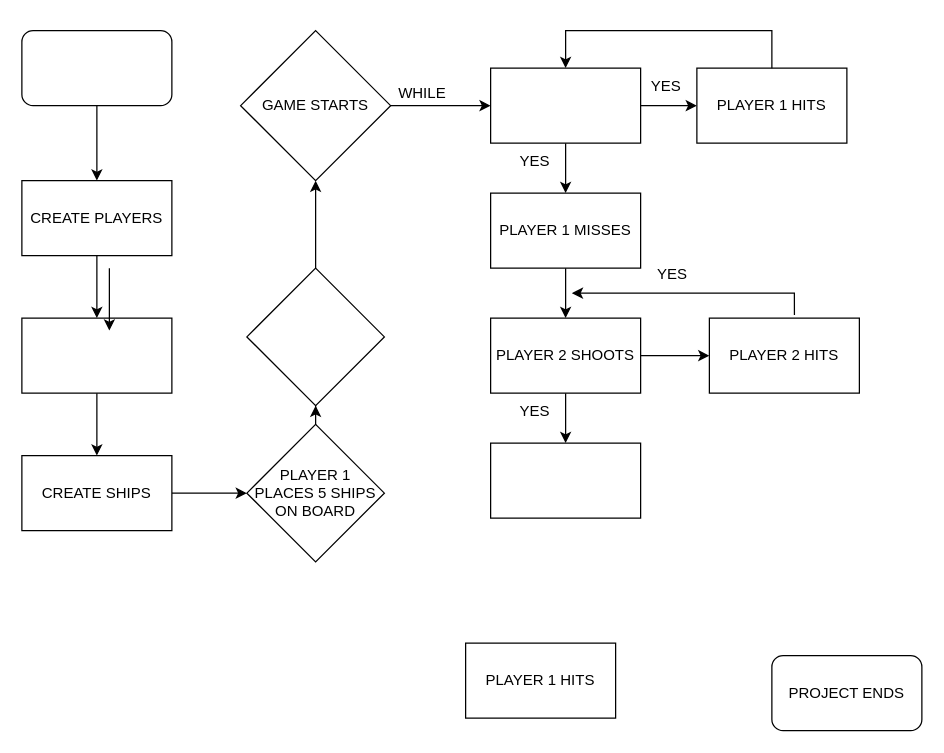
Some shapes in this 944 by 753 pixel diagram are drawn without their labels. Each missing label, with the box of its shape:
CREATE BOARD: (21, 317, 172, 393)
PLAYER 1 SHOOTS: (489, 67, 641, 143)
PLAYER 2 MISSES: (489, 442, 641, 518)
PLAYER 2 PLACES 5 SHIPS ON BOARD: (246, 267, 384, 406)
PROJECT STARTS: (21, 29, 172, 106)
